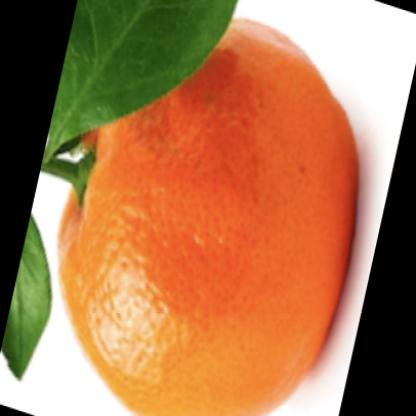fresh: (56, 17, 358, 416)
